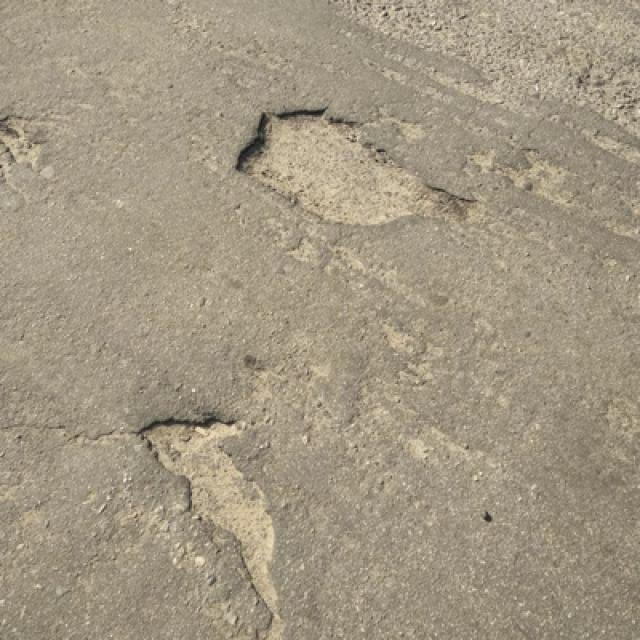jalan_berlubang: (122, 410, 298, 610), (238, 103, 452, 224)
